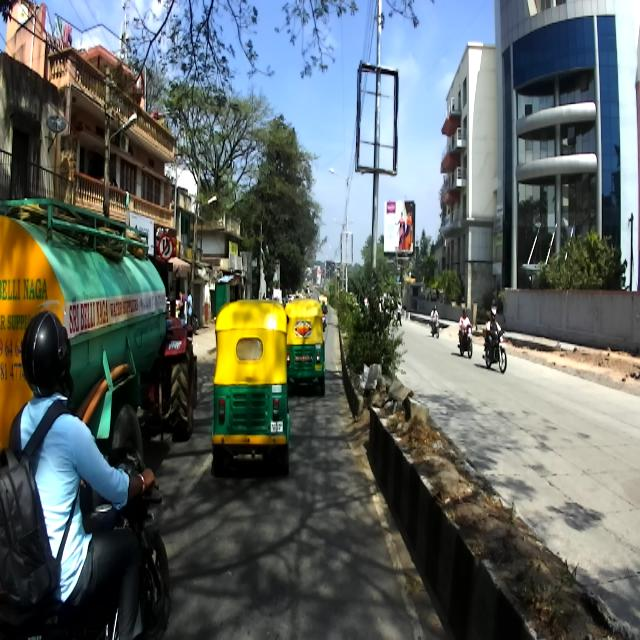auto ahead at: (214, 297, 294, 468), (280, 292, 330, 402)
barrier ahead at: (364, 395, 537, 640)
